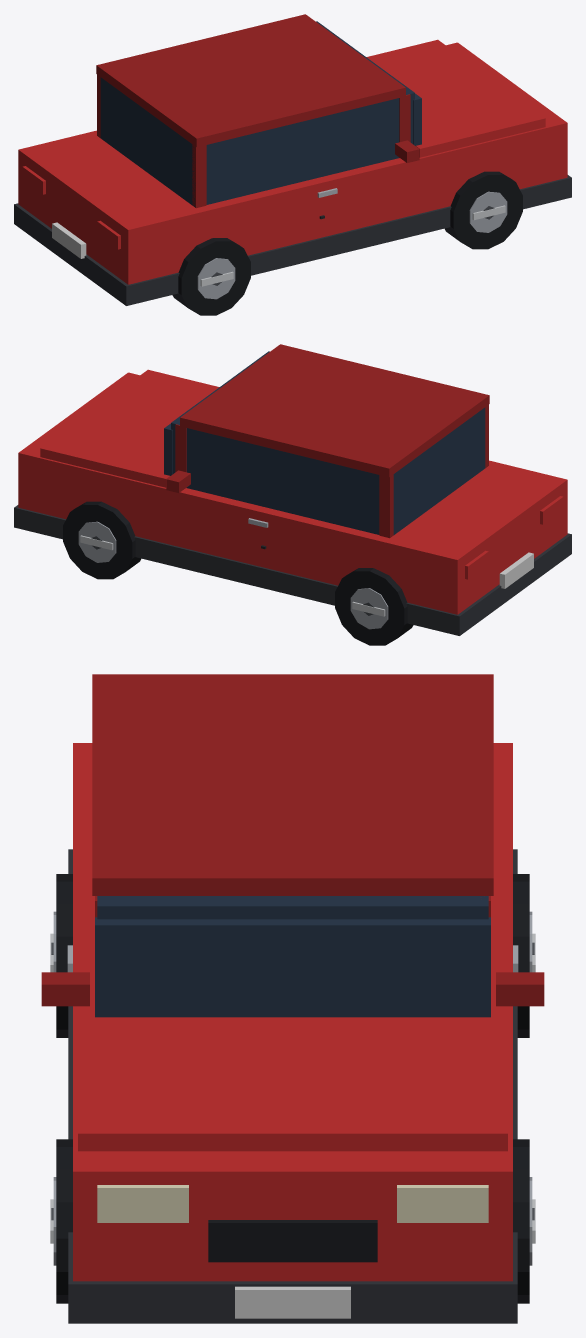
The model's file is car_red.glb.
The picture shows the model from 3 angles, top to bottom: view 1: azimuth 30°, elevation 25°; view 2: azimuth 150°, elevation 25°; view 3: azimuth 270°, elevation 25°; orthographic projection. The views are drawn at different scales.
Visible parts, largest first — view 1: gh_car_red__body, gh_car_red__wheel0, gh_car_red__wheel2; view 2: gh_car_red__body, gh_car_red__wheel1, gh_car_red__wheel3; view 3: gh_car_red__body, gh_car_red__wheel0, gh_car_red__wheel1, gh_car_red__wheel2, gh_car_red__wheel3.
Boxes of the visible parts, x1=… form: gh_car_red__body: x1=14, y1=14, x2=571, y2=305; gh_car_red__wheel0: x1=445, y1=171, x2=522, y2=249; gh_car_red__wheel2: x1=172, y1=238, x2=250, y2=315; gh_car_red__body: x1=14, y1=344, x2=571, y2=635; gh_car_red__wheel1: x1=63, y1=501, x2=140, y2=579; gh_car_red__wheel3: x1=335, y1=568, x2=413, y2=645; gh_car_red__body: x1=41, y1=674, x2=544, y2=1323; gh_car_red__wheel0: x1=50, y1=1139, x2=72, y2=1303; gh_car_red__wheel1: x1=513, y1=1139, x2=535, y2=1303; gh_car_red__wheel2: x1=50, y1=874, x2=72, y2=1037; gh_car_red__wheel3: x1=513, y1=874, x2=535, y2=1037.
Size of the model in its own units: 4.33 by 1.58 by 2.08.
